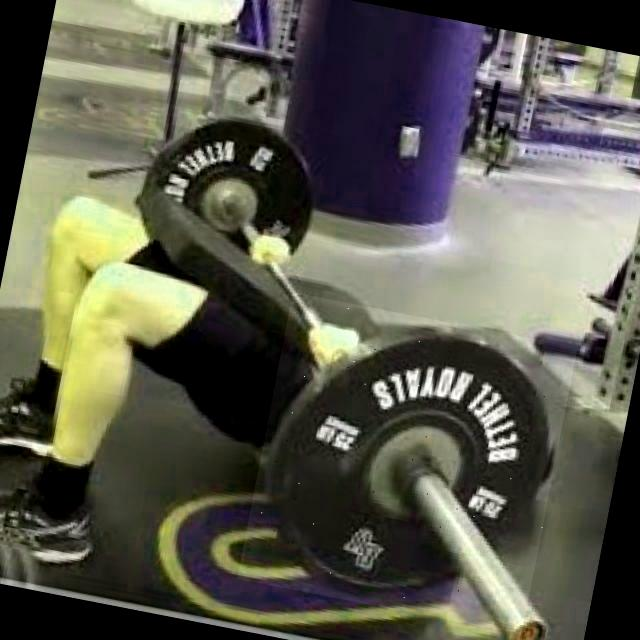barbell: (238, 293, 579, 635)
